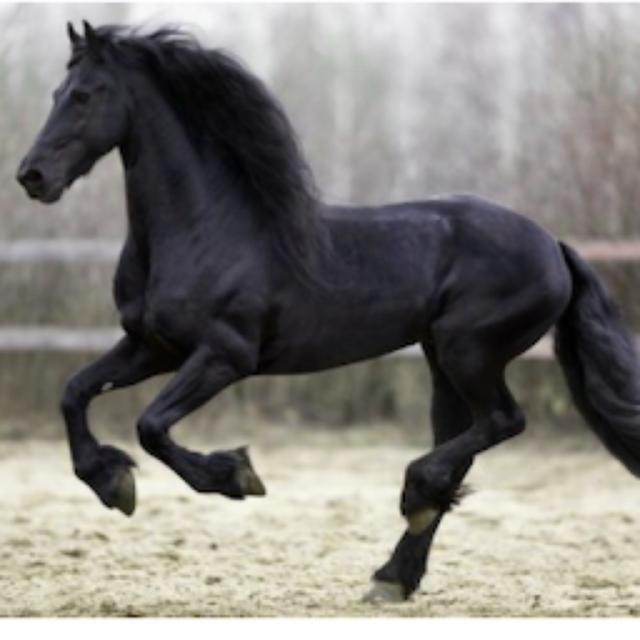Horse: (8, 15, 638, 605)
